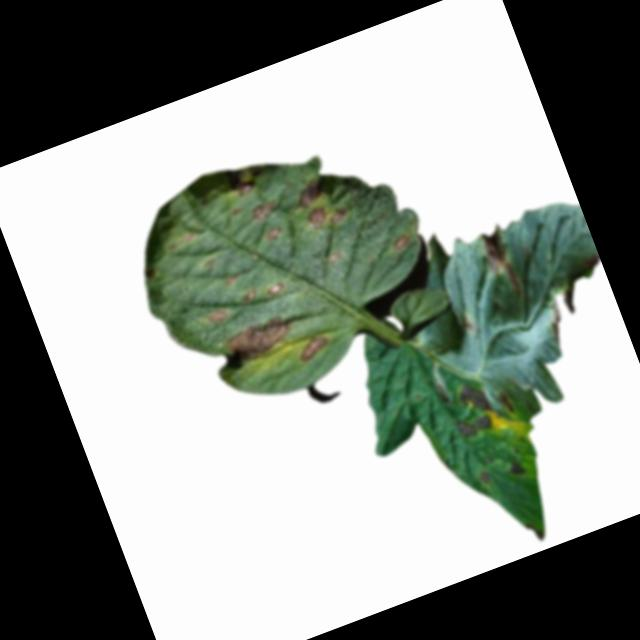Early_blight: (470, 224, 531, 310), (216, 310, 297, 365), (296, 198, 349, 239), (537, 293, 574, 350), (289, 174, 331, 213), (451, 410, 495, 444), (459, 377, 494, 416), (294, 330, 335, 363), (248, 196, 279, 226), (261, 277, 286, 302), (202, 307, 230, 329), (259, 224, 284, 247), (233, 179, 257, 201), (239, 284, 262, 306), (505, 460, 526, 480), (390, 233, 411, 253), (475, 469, 493, 489)
